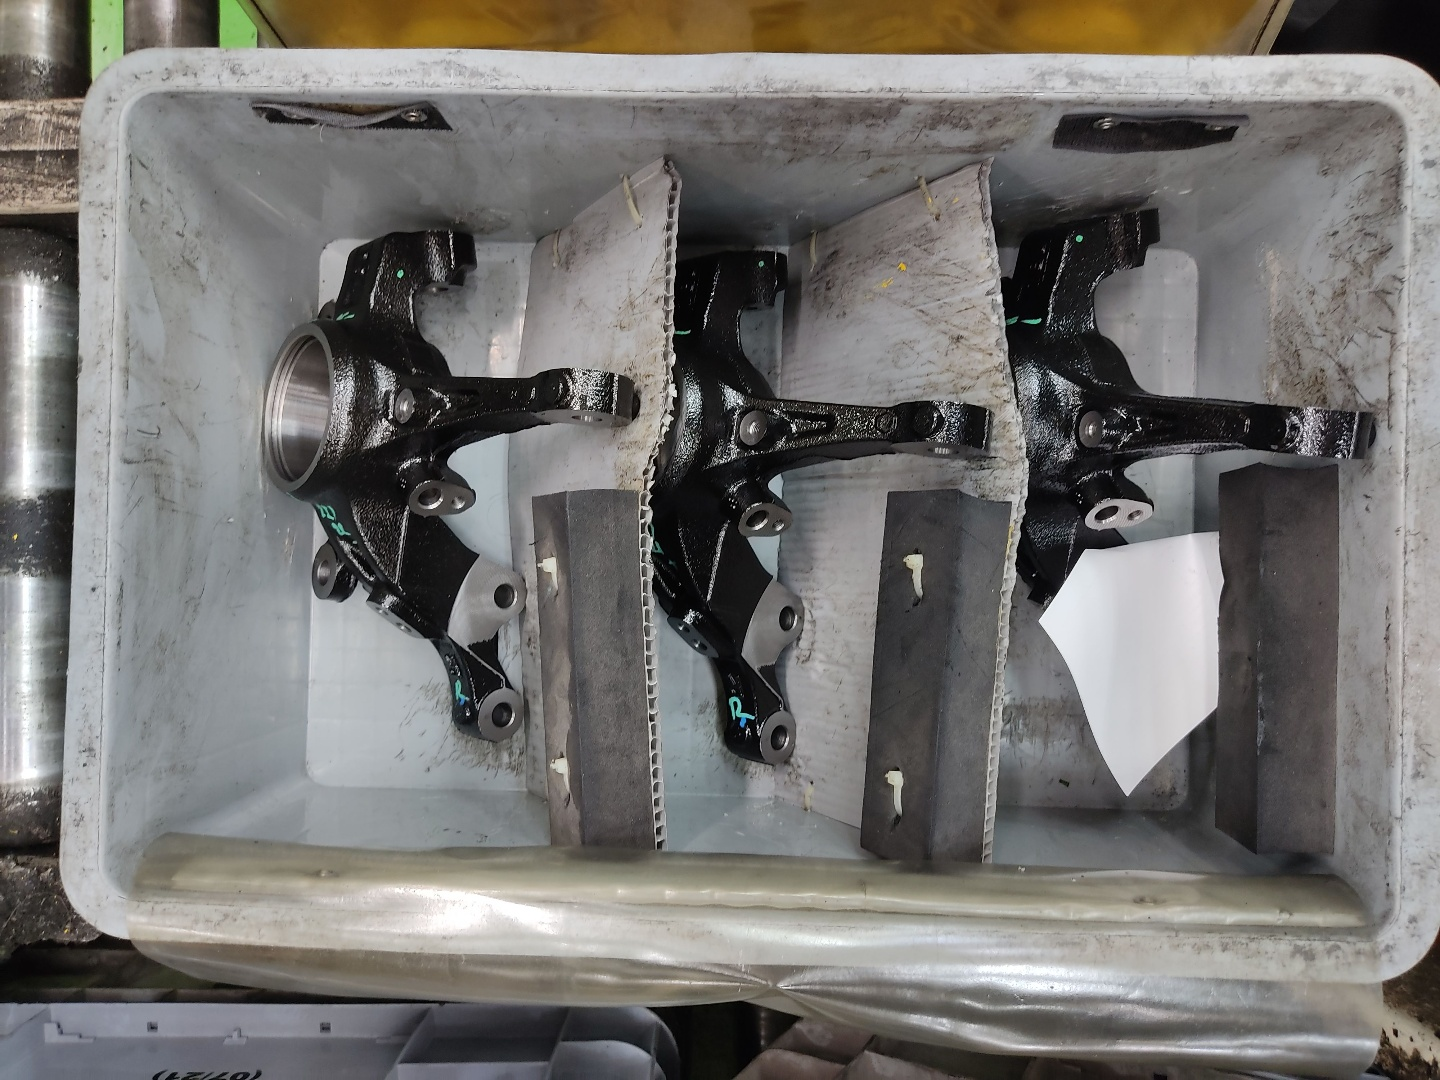abs-rh: (992, 191, 1381, 748), (256, 213, 647, 749), (653, 233, 999, 777)
